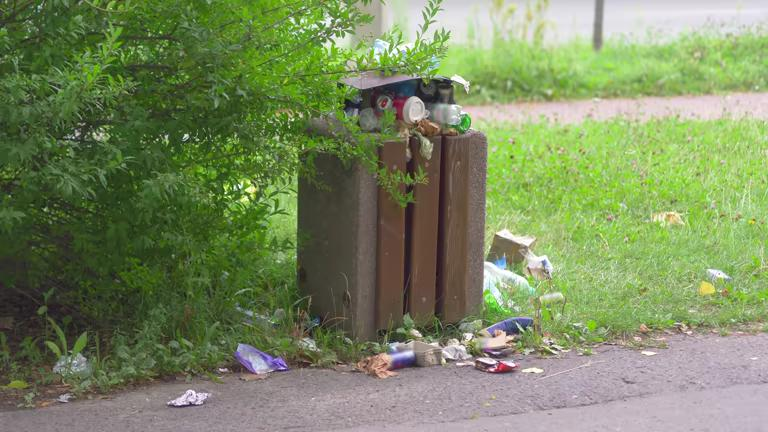trash: (293, 64, 507, 148), (208, 336, 293, 386), (480, 259, 535, 312), (155, 380, 224, 418), (486, 226, 537, 270), (222, 301, 304, 328), (483, 315, 556, 345), (356, 335, 414, 372), (47, 343, 92, 384), (288, 314, 327, 356), (703, 260, 745, 290), (405, 332, 439, 366), (533, 283, 574, 311), (447, 334, 480, 364), (484, 325, 518, 351), (527, 255, 558, 283), (477, 345, 501, 379), (493, 346, 521, 375), (697, 278, 723, 303)
trash_can_overflow: (195, 37, 570, 392)
